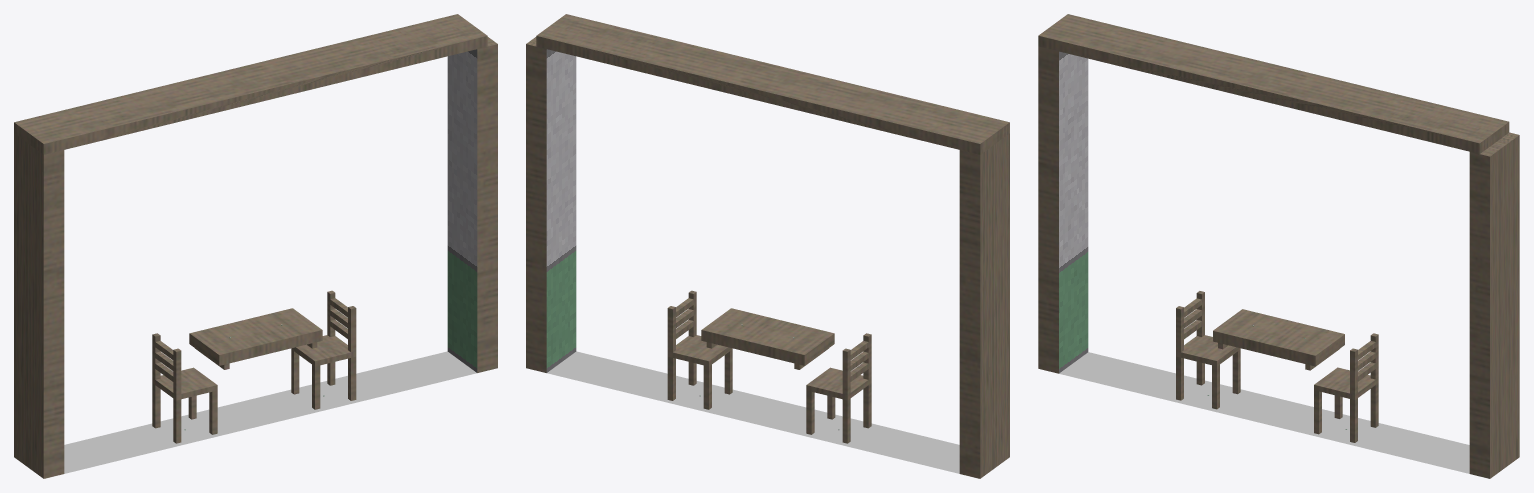
File: Room_Extension_Grp.fbx
The picture shows the model from 3 angles, left to right: view 1: azimuth 30°, elevation 25°; view 2: azimuth 150°, elevation 25°; view 3: azimuth 330°, elevation 25°; orthographic projection.
Visible parts, largest first — view 1: Ceiling, Wall_R, Wall_L, Floor, Table, Chair_L, Chair_R; view 2: Ceiling, Wall_R, Wall_L, Floor, Table, Chair_L, Chair_R; view 3: Ceiling, Wall_L, Wall_R, Floor, Table, Chair_R, Chair_L.
Part boxes in pixels (x1,y1,x2,y2): Ceiling: (14, 14, 487, 154); Wall_R: (14, 133, 64, 478); Wall_L: (447, 37, 497, 372); Floor: (64, 351, 476, 473); Table: (189, 308, 322, 369); Chair_L: (291, 290, 356, 409); Chair_R: (152, 333, 217, 443); Ceiling: (536, 14, 1009, 154); Wall_R: (959, 133, 1009, 478); Wall_L: (526, 37, 576, 372); Floor: (547, 351, 959, 473); Table: (701, 308, 834, 369); Chair_L: (667, 290, 732, 409); Chair_R: (806, 333, 871, 443); Ceiling: (1038, 14, 1509, 153); Wall_L: (1469, 132, 1519, 478); Wall_R: (1038, 46, 1088, 373); Floor: (1059, 352, 1469, 473); Table: (1213, 309, 1344, 370); Chair_R: (1176, 291, 1240, 409); Chair_L: (1314, 333, 1378, 442).
Bounding box in the file's own units: 440 × 310 × 50.
